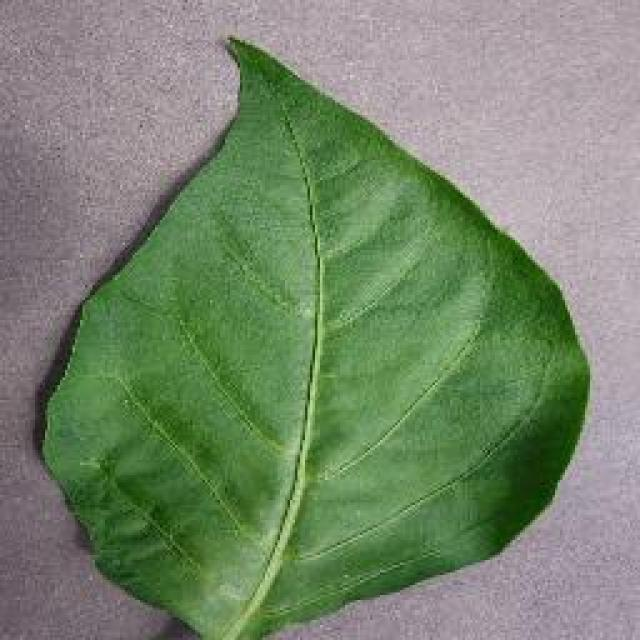healthy: (42, 40, 588, 638)
